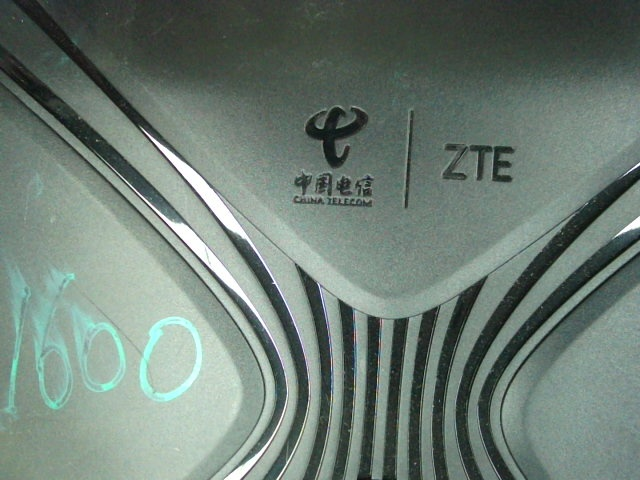AX_ZTEChinaTelecom: (273, 102, 520, 212)
